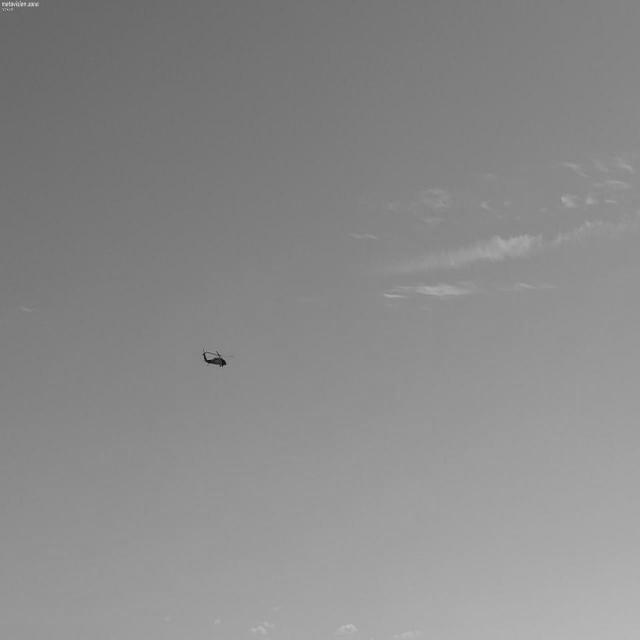helikopter: (176, 312, 276, 406)
